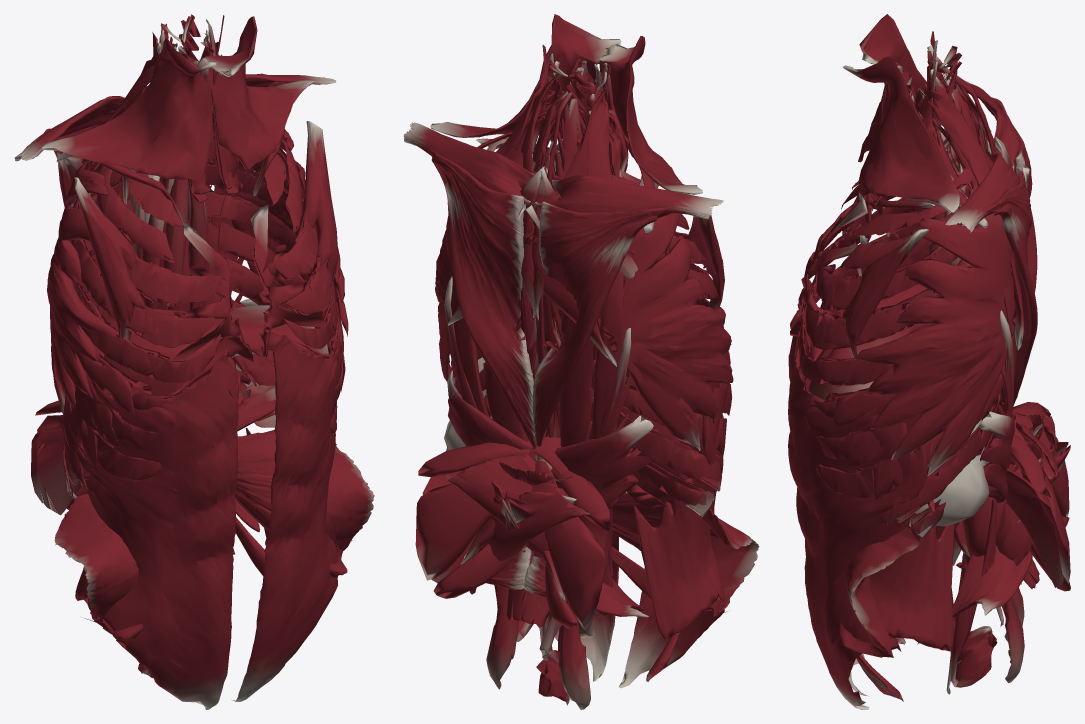
The model's file is roma-adapted-bp3d-mobile-meshopt.glb.
3 renders of one model, left to right at view 1: azimuth 30°, elevation 25°; view 2: azimuth 150°, elevation 25°; view 3: azimuth 270°, elevation 25°, orthographic.
Visible parts, largest first — view 1: right_external_oblique, left_external_oblique, right_platysma, external_intercostal_muscle, internal_intercostal_muscle, right_serratus_anterior, left_platysma, right_pectoralis_major_sternocostal_part, internal_intercostal_muscle_FJ1455M, left_pectoralis_major_sternocostal_part, innermost_intercostal_muscle_FJ1454M, external_intercostal_muscle_FJ1451M (+20 smaller); view 2: right_serratus_anterior, left_trapezius_ascending_part, right_external_oblique, right_trapezius_ascending_part, external_intercostal_muscle, right_infraspinatus_muscle, right_trapezius_transverse_part, right_serratus_posterior_inferior, left_pectoralis_major_sternocostal_part, left_infraspinatus_muscle, right_platysma, right_iliocostalis_lumborum (+39 smaller); view 3: left_external_oblique, left_serratus_anterior, external_intercostal_muscle_FJ1451M, left_platysma, internal_intercostal_muscle_FJ1455M, right_pectoralis_major_sternocostal_part, diaphragm, left_trapezius_ascending_part, left_trapezius_descending_part, right_subscapularis, left_pectoralis_minor, left_iliocostalis_lumborum (+27 smaller).
Boxes of the visible parts, x1,y1,x2,y2 form: right_external_oblique: [63, 345, 238, 709]; left_external_oblique: [231, 303, 341, 701]; right_platysma: [40, 38, 217, 181]; external_intercostal_muscle: [62, 162, 183, 499]; internal_intercostal_muscle: [68, 201, 221, 501]; right_serratus_anterior: [47, 159, 137, 415]; left_platysma: [204, 16, 314, 170]; right_pectoralis_major_sternocostal_part: [235, 430, 374, 577]; internal_intercostal_muscle_FJ1455M: [220, 149, 343, 433]; left_pectoralis_major_sternocostal_part: [54, 493, 143, 638]; innermost_intercostal_muscle_FJ1454M: [217, 149, 341, 385]; external_intercostal_muscle_FJ1451M: [204, 105, 345, 391]; right_serratus_anterior: [603, 176, 733, 450]; left_trapezius_ascending_part: [427, 148, 542, 459]; right_external_oblique: [619, 383, 728, 688]; right_trapezius_ascending_part: [532, 201, 671, 460]; external_intercostal_muscle: [590, 169, 732, 517]; right_infraspinatus_muscle: [415, 459, 552, 580]; right_trapezius_transverse_part: [533, 167, 723, 225]; right_serratus_posterior_inferior: [555, 415, 653, 509]; left_pectoralis_major_sternocostal_part: [612, 492, 759, 616]; left_infraspinatus_muscle: [544, 517, 606, 630]; right_platysma: [598, 36, 702, 194]; right_iliocostalis_lumborum: [558, 328, 632, 709]; left_external_oblique: [788, 330, 954, 709]; left_serratus_anterior: [854, 197, 1016, 476]; external_intercostal_muscle_FJ1451M: [818, 164, 1004, 538]; left_platysma: [843, 56, 960, 212]; internal_intercostal_muscle_FJ1455M: [798, 246, 985, 538]; right_pectoralis_major_sternocostal_part: [839, 519, 919, 657]; diaphragm: [808, 275, 989, 526]; left_trapezius_ascending_part: [986, 167, 1037, 406]; left_trapezius_descending_part: [952, 424, 1043, 617]; right_subscapularis: [1005, 468, 1063, 587]; left_pectoralis_minor: [841, 229, 929, 360]; left_iliocostalis_lumborum: [981, 310, 1024, 683].
Size of the model in its own units: 0.1983 by 0.4054 by 0.1558.
